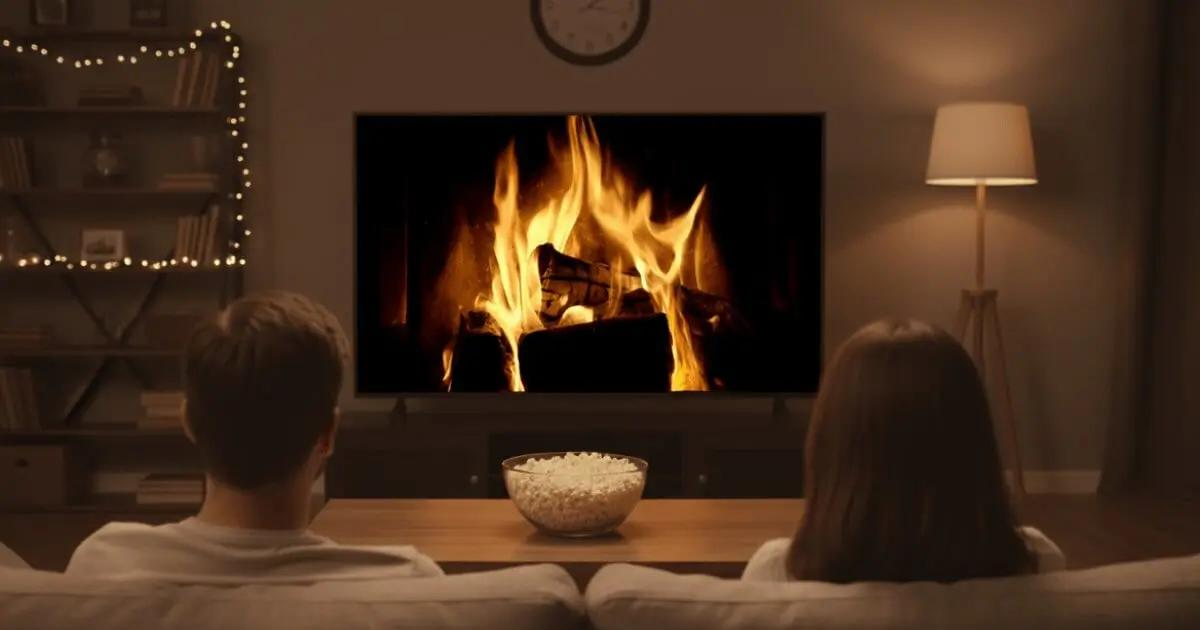controlled_fire: (406, 110, 786, 394)
